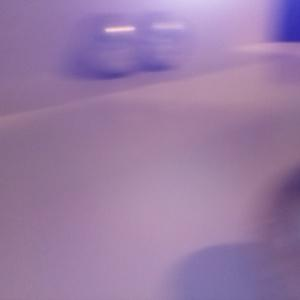alive_ball: (72, 13, 144, 76), (131, 11, 193, 68)
